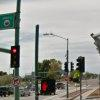Traffic light: (65, 50, 86, 79)
